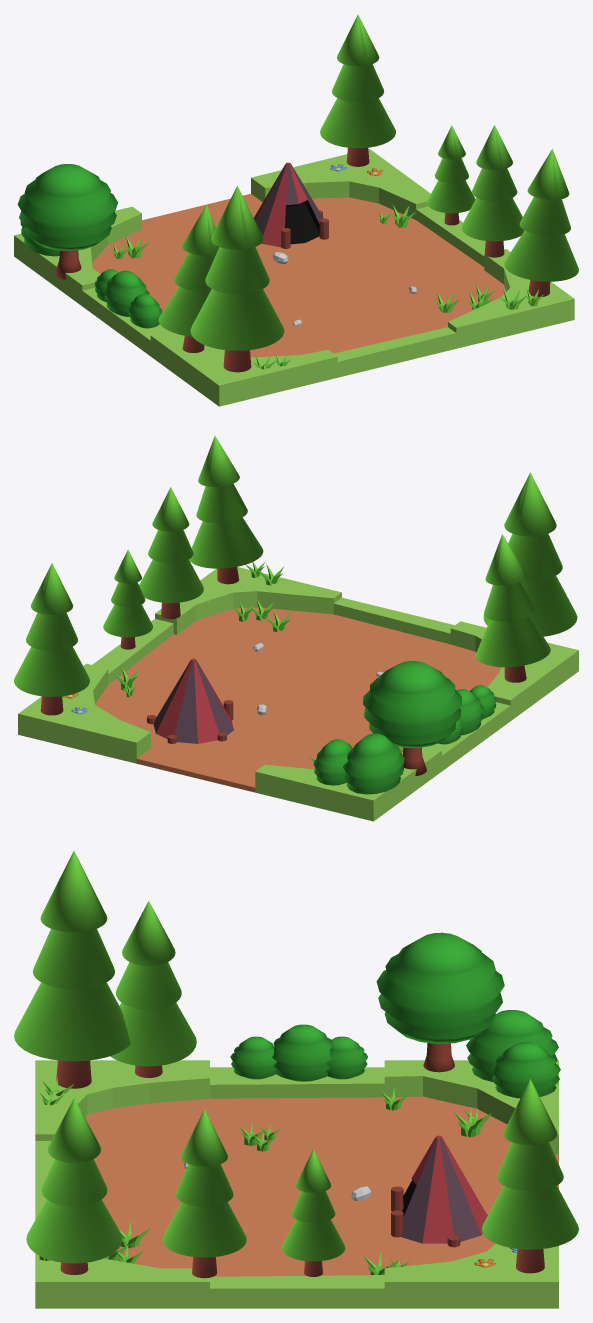
The model's file is jungle level set - 1 Way (1).fbx.
3 views of the same model, one above another, from view 1: azimuth 30°, elevation 25°; view 2: azimuth 150°, elevation 25°; view 3: azimuth 270°, elevation 25° (orthographic). The views are drawn at different scales.
Visible parts, largest first — view 1: land_platform_001, tree_006, tree_004, tree_001, tree_000, tree_003, tree_005, camp, tree_002, bush_000, bush_005; view 2: land_platform_001, tree_004, tree_001, tree_005, tree_006, tree_000, tree_003, camp, bush_003, tree_002, bush_001, bush_000 (+1 smaller); view 3: land_platform_001, tree_006, tree_004, tree_001, tree_000, tree_005, tree_003, camp, tree_002, bush_003, bush_001, bush_000 (+2 smaller).
Part boxes in pixels (x1,y1,x2,y2): land_platform_001: (14,148,574,406); tree_006: (190,186,284,372); tree_004: (17,164,117,279); tree_001: (320,14,395,166); tree_000: (504,149,578,297); tree_003: (461,125,524,257); tree_005: (158,205,219,352); camp: (254,162,328,248); tree_002: (427,125,475,225); bush_000: (104,270,149,316); bush_005: (128,293,162,328); land_platform_001: (18,567,578,821); tree_004: (363,661,461,775); tree_001: (14,563,89,715); tree_005: (476,534,550,682); tree_006: (483,472,577,636); tree_000: (189,436,263,584); tree_003: (139,487,203,619); camp: (147,658,233,743); bush_003: (343,733,404,794); tree_002: (103,549,152,649); bush_001: (313,739,352,785); bush_000: (456,689,483,735); land_platform_001: (35,1060,558,1308); tree_006: (14,851,130,1088); tree_004: (376,932,504,1072); tree_001: (482,1079,578,1273); tree_000: (26,1098,122,1274); tree_005: (110,901,196,1077); tree_003: (162,1109,246,1278); camp: (391,1135,488,1247); tree_002: (281,1149,345,1276); bush_003: (466,1010,558,1081); bush_001: (491,1042,560,1098); bush_000: (272,1024,331,1081).
Bounding box in the file's own units: 17.35 × 8.27 × 16.37.
